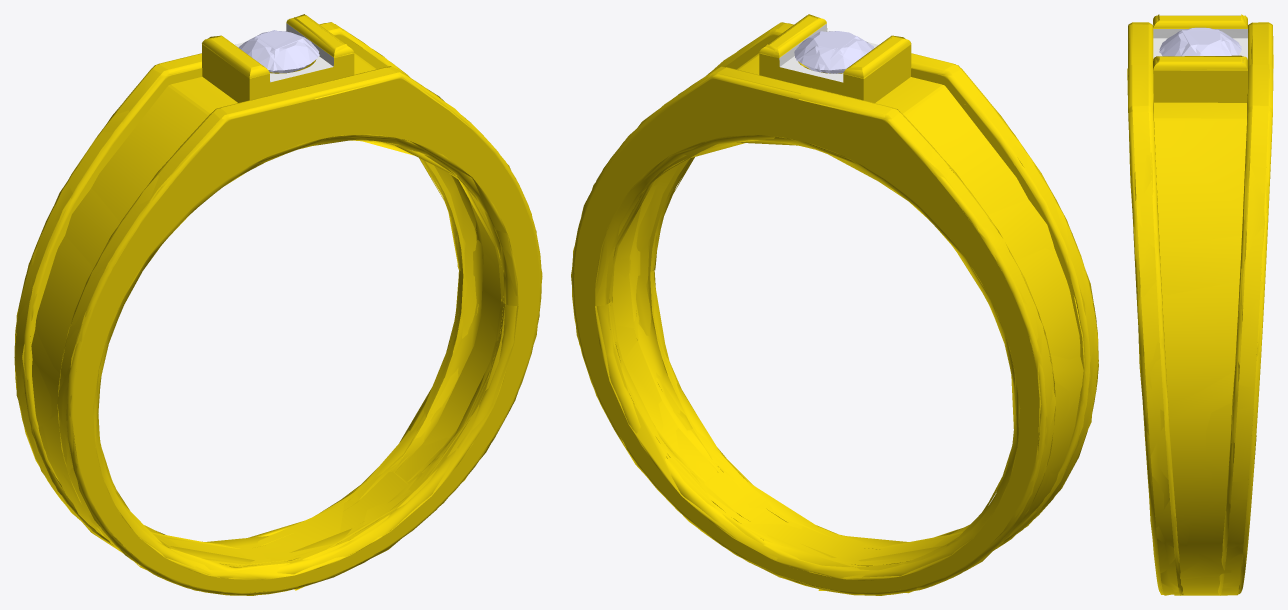
The model's file is DGR-D000700205.glb.
3 renders of one model, left to right at view 1: azimuth 30°, elevation 25°; view 2: azimuth 150°, elevation 25°; view 3: azimuth 270°, elevation 25°, orthographic.
Visible parts, largest first — view 1: highPolyMesh, lowPolyMesh; view 2: highPolyMesh, lowPolyMesh; view 3: highPolyMesh, lowPolyMesh.
Boxes of the visible parts, <box> form: highPolyMesh: <box>14,15,541,595</box>; lowPolyMesh: <box>16,14,542,595</box>; highPolyMesh: <box>572,15,1098,595</box>; lowPolyMesh: <box>571,14,1098,595</box>; highPolyMesh: <box>1128,15,1273,594</box>; lowPolyMesh: <box>1127,14,1273,595</box>.
Size of the model in its own units: 0.0237 by 0.0256 by 0.00634.
